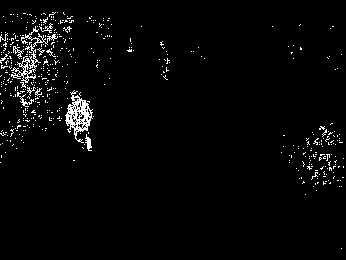person: (63, 91, 95, 153)
